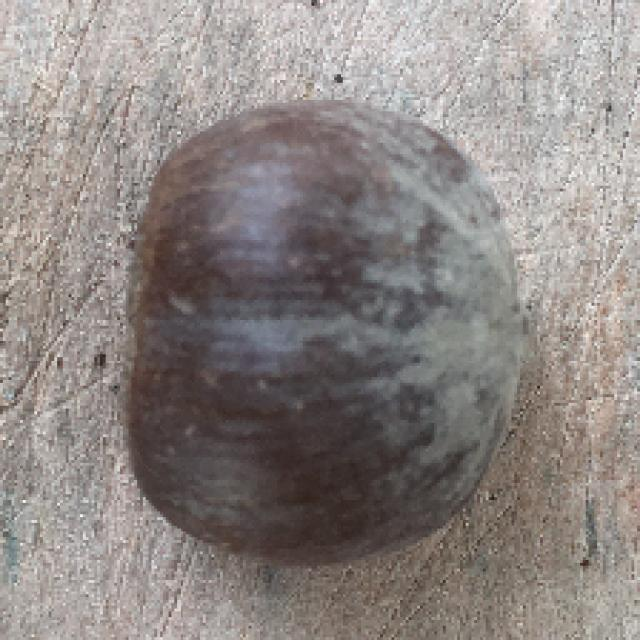damagedHazelnut: (121, 90, 534, 563)
